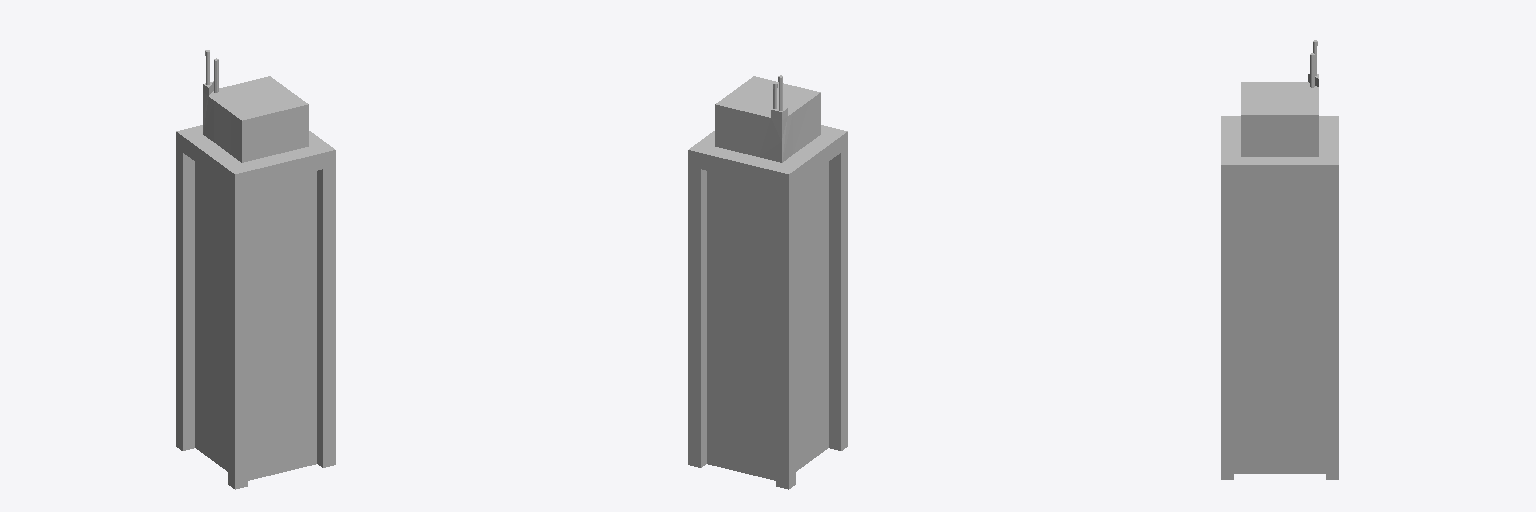
Rendered from Building_2.obj.
The picture shows the model from 3 angles: view 1: azimuth 30°, elevation 25°; view 2: azimuth 150°, elevation 25°; view 3: azimuth 270°, elevation 25°; orthographic projection.
Visible parts, largest first — view 1: building_2; view 2: building_2; view 3: building_2.
Part boxes in pixels (x1,y1,x2,y2): building_2: (176,50,335,489); building_2: (688,75,847,489); building_2: (1221,40,1338,479).
Size of the model in its own units: 8.92 by 33.75 by 9.